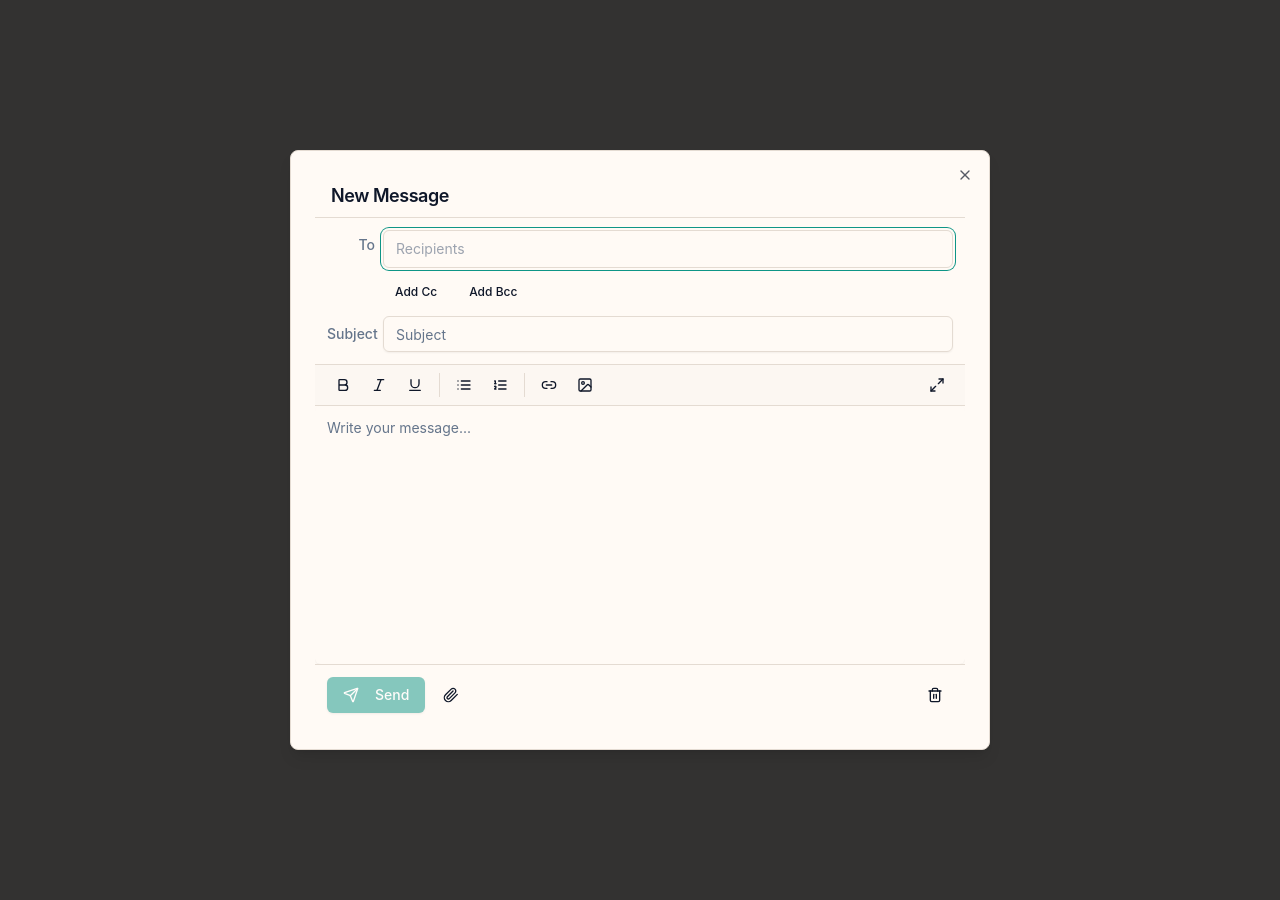
Test: MessageComposer › recipient input › should remove recipient when X is clicked
Type "test@example.com" into the field with placeholder "Recipients" at (668, 249), box [396, 235, 940, 263]
Then press Enter
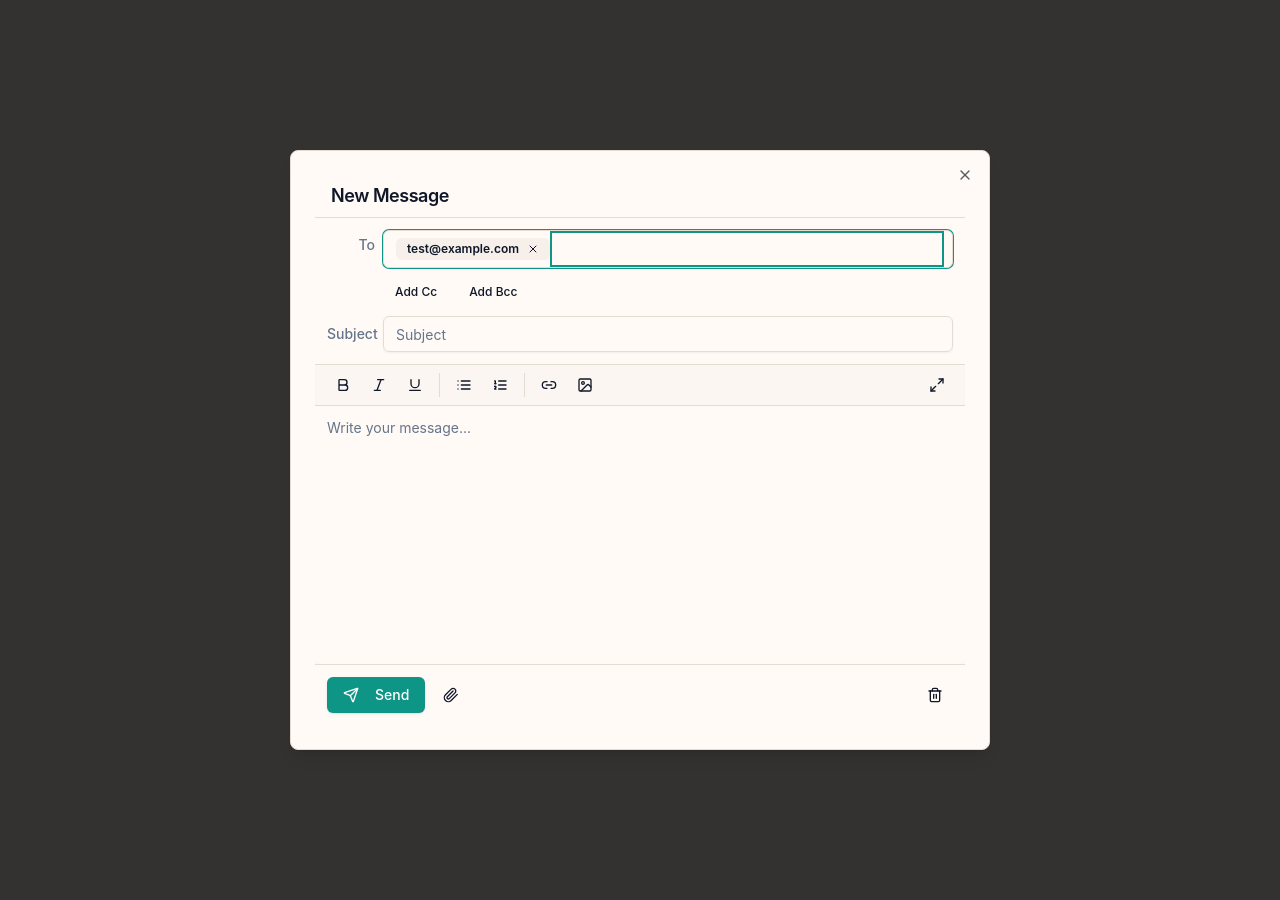
Expected: the text "test@example.com" is shown, [396, 238, 550, 260]
Click the button without text in the row of "To" at (533, 249), box [527, 243, 539, 255]
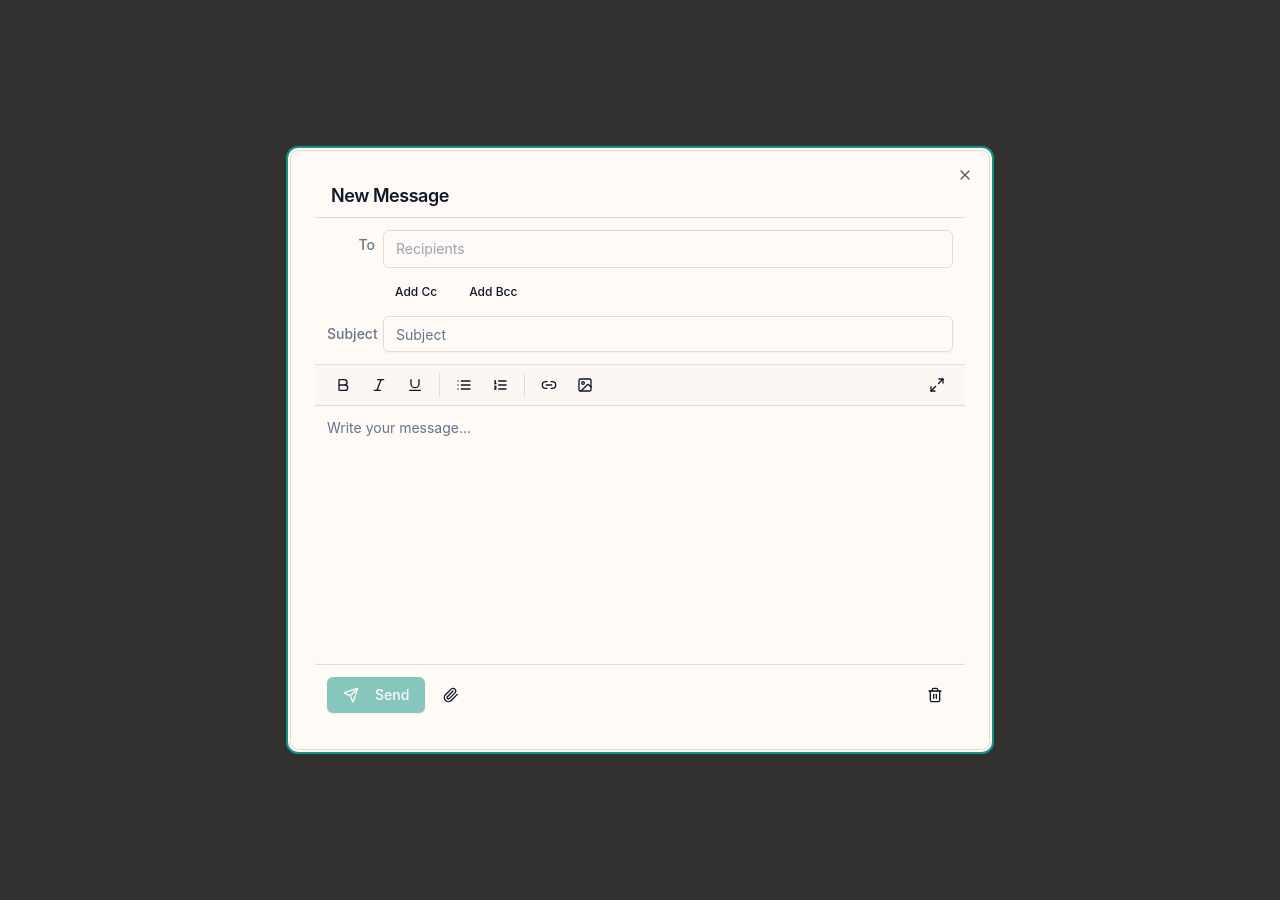
Expected: the text "test@example.com" is gone
